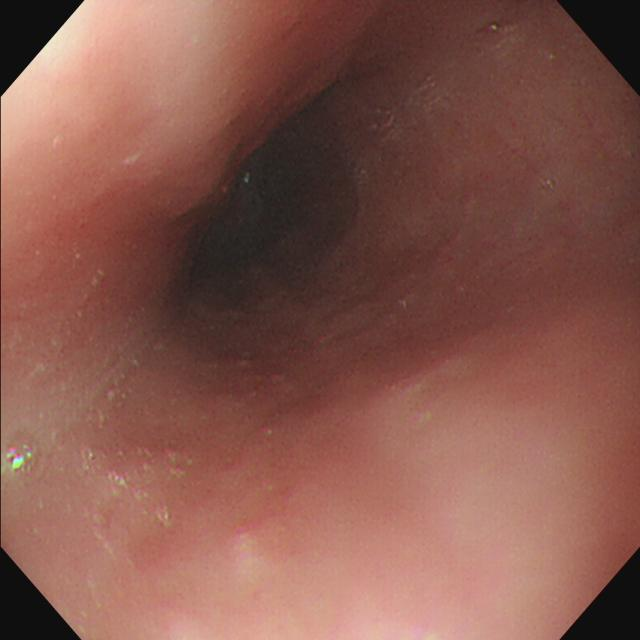E: (188, 93, 374, 312)
